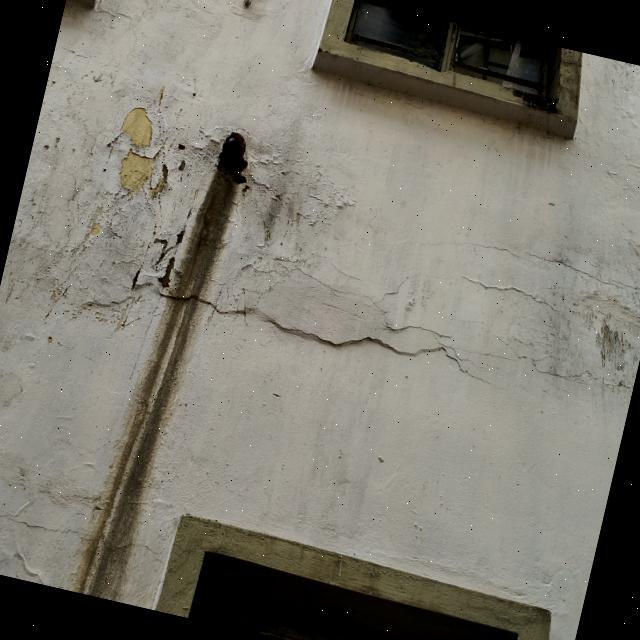Crack: (526, 253, 640, 291)
Paint Peeling: (217, 152, 511, 373), (73, 88, 168, 280)
Spalling: (503, 81, 578, 138)
pollution -moisture induced blackening: (78, 169, 237, 599)
